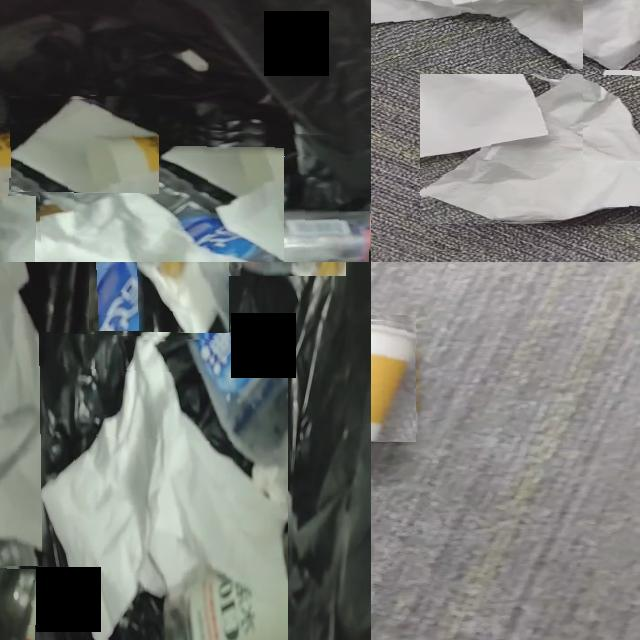bottle: (43, 262, 199, 500), (40, 145, 284, 262), (0, 512, 166, 640), (268, 197, 371, 262)
dixie_cup: (0, 132, 79, 167)
paper: (41, 336, 288, 640), (425, 74, 640, 223), (0, 262, 89, 566), (11, 98, 159, 192), (137, 262, 229, 340), (41, 456, 76, 497)
